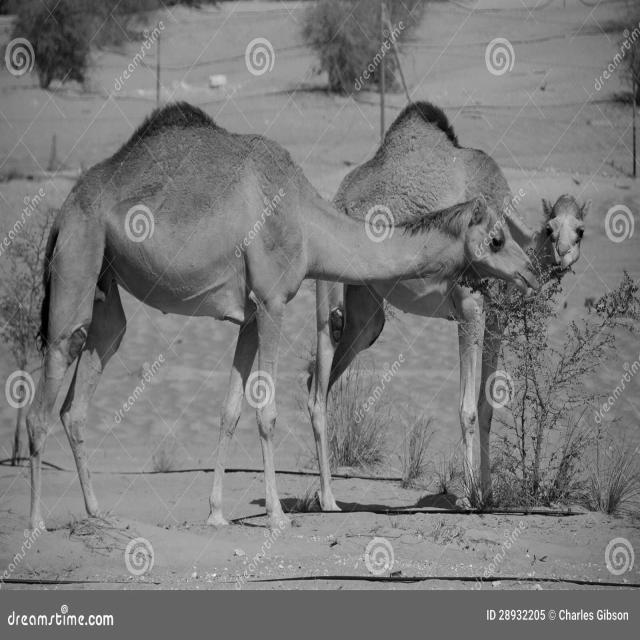Camel: (24, 98, 541, 535), (303, 100, 590, 512)
